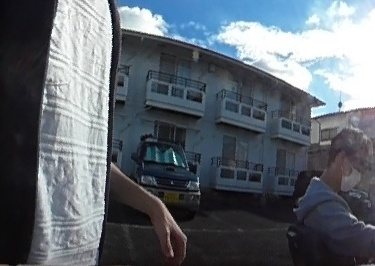person: (296, 124, 375, 249)
